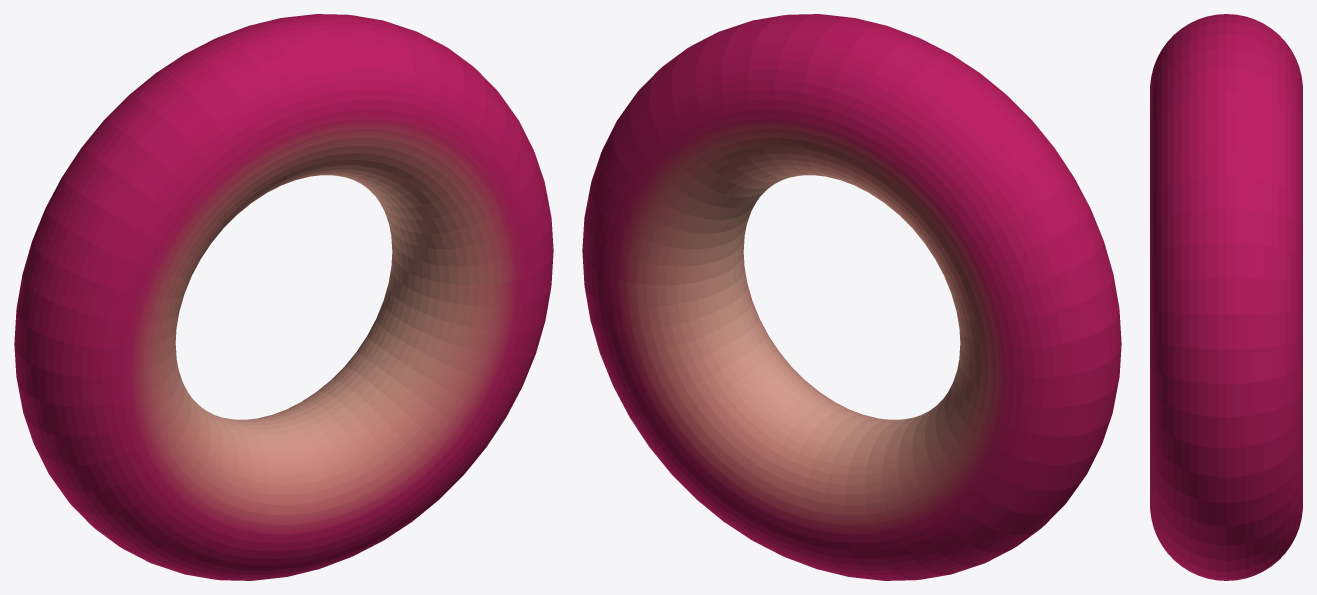
3 renders of one model, left to right at view 1: azimuth 30°, elevation 25°; view 2: azimuth 150°, elevation 25°; view 3: azimuth 270°, elevation 25°, orthographic. The views are drawn at different scales.
Visible parts, largest first — view 1: world; view 2: world; view 3: world.
Boxes of the visible parts, box(x1,y1,x2,y2) form: world: box(14, 14, 553, 580); world: box(582, 14, 1121, 580); world: box(1150, 14, 1302, 580).
Bounding box in the file's own units: 30.13 × 30.07 × 8.12.
